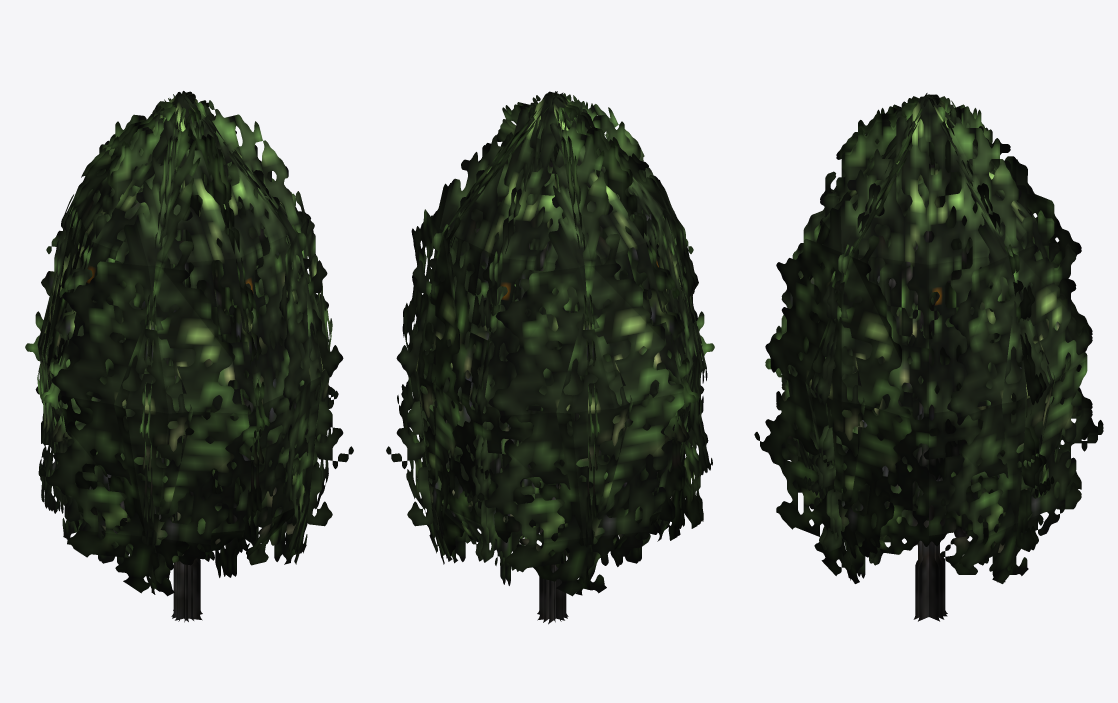
Rendered from rounded_garden_shrub.glb.
The picture shows the model from 3 angles, left to right: view 1: azimuth 30°, elevation 25°; view 2: azimuth 150°, elevation 25°; view 3: azimuth 270°, elevation 25°; orthographic projection.
Visible parts, largest first — view 1: bush4; view 2: bush4; view 3: bush4.
Part boxes in pixels (x1=…): bush4: x1=25, y1=91, x2=353, y2=622; bush4: x1=386, y1=91, x2=714, y2=624; bush4: x1=754, y1=93, x2=1103, y2=621.
Bounding box in the file's own units: 0.6 × 1 × 0.6.
Materials: 1 (1 with a texture image).
